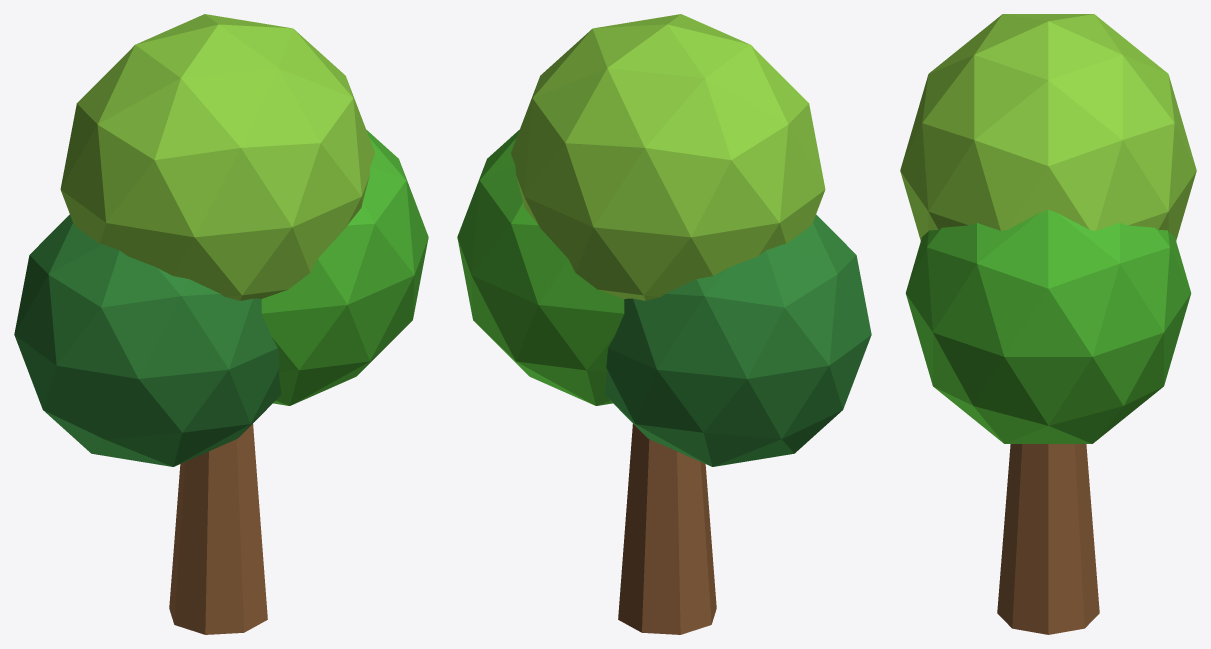
The model's file is JungleTree.glb.
3 views of the same model, side by side, from view 1: azimuth 30°, elevation 25°; view 2: azimuth 150°, elevation 25°; view 3: azimuth 270°, elevation 25° (orthographic).
Parts seen in each view (by area): view 1: Tree_Leaves_3, Tree_Leaves_1, Tree_Leaves_2, Tree_Trunk; view 2: Tree_Leaves_3, Tree_Leaves_1, Tree_Leaves_2, Tree_Trunk; view 3: Tree_Leaves_2, Tree_Leaves_3, Tree_Trunk.
Part boxes in pixels (left/top/right/bottom): Tree_Leaves_3: left=60, top=14, right=374, bottom=300; Tree_Leaves_1: left=14, top=214, right=281, bottom=466; Tree_Leaves_2: left=261, top=130, right=428, bottom=405; Tree_Trunk: left=169, top=424, right=267, bottom=634; Tree_Leaves_3: left=511, top=14, right=825, bottom=300; Tree_Leaves_1: left=604, top=214, right=871, bottom=466; Tree_Leaves_2: left=457, top=130, right=624, bottom=405; Tree_Trunk: left=618, top=424, right=716, bottom=634; Tree_Leaves_2: left=905, top=209, right=1191, bottom=443; Tree_Leaves_3: left=900, top=14, right=1196, bottom=240; Tree_Trunk: left=997, top=444, right=1099, bottom=634.
Bounding box in the file's own units: 3.53 × 5.35 × 2.43.
